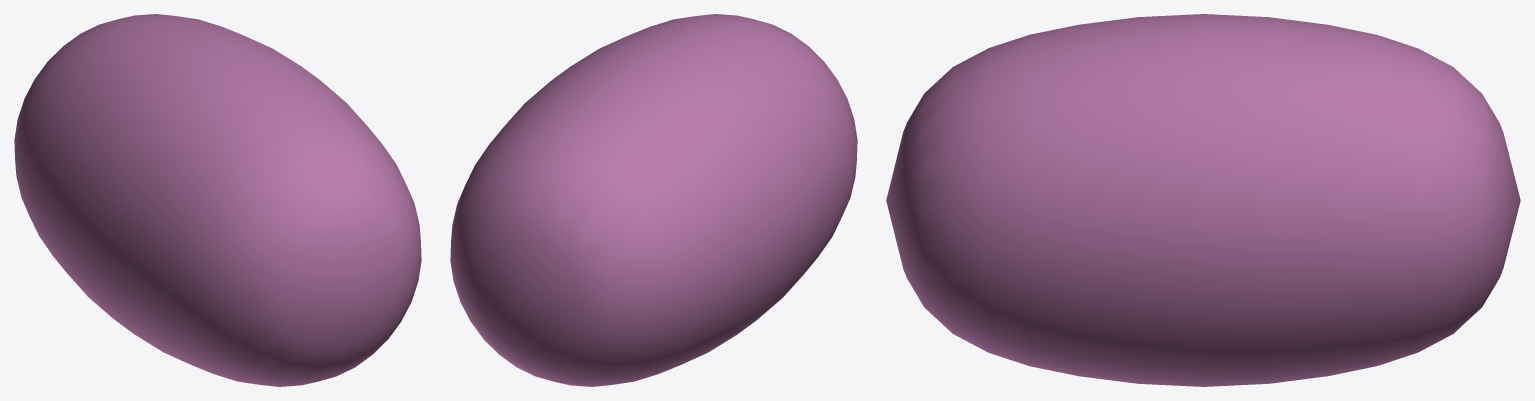
The picture shows the model from 3 angles, left to right: view 1: azimuth 30°, elevation 25°; view 2: azimuth 150°, elevation 25°; view 3: azimuth 270°, elevation 25°; orthographic projection. The views are drawn at different scales.
Visible parts, largest first — view 1: 左侧蜗背侧核; view 2: 左侧蜗背侧核; view 3: 左侧蜗背侧核.
Boxes of the visible parts, x1,y1,x2,y2 form: 左侧蜗背侧核: (14,14,421,386); 左侧蜗背侧核: (450,14,857,386); 左侧蜗背侧核: (886,14,1520,386).
Size of the model in its own units: 0.0028 by 0.0028 by 0.00476.
